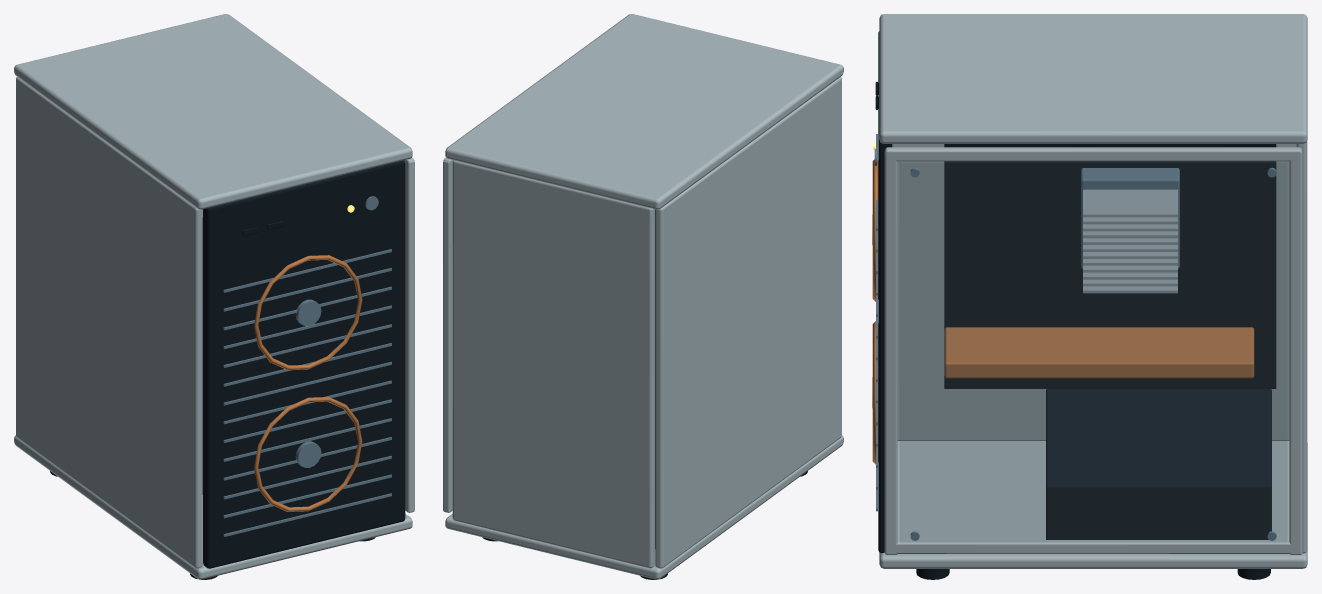
Rendered from tower.glb.
The picture shows the model from 3 angles, left to right: view 1: azimuth 30°, elevation 25°; view 2: azimuth 150°, elevation 25°; view 3: azimuth 270°, elevation 25°; orthographic projection. The views are drawn at different scales.
Parts seen in each view (by area): view 1: case, dark, hardware, copper; view 2: case; view 3: window, case, dark, copper, aluminum, hardware.
Boxes of the visible parts, bbox=[...] form: case: bbox=[14, 14, 414, 579]; dark: bbox=[50, 160, 405, 579]; hardware: bbox=[223, 196, 391, 536]; copper: bbox=[254, 255, 362, 511]; case: bbox=[443, 14, 843, 579]; window: bbox=[900, 162, 1286, 541]; case: bbox=[879, 14, 1307, 568]; dark: bbox=[875, 31, 1276, 579]; copper: bbox=[872, 159, 1254, 464]; aluminum: bbox=[1083, 189, 1177, 293]; hardware: bbox=[872, 134, 1276, 540].
Size of the model in its own units: 0.246 by 0.423 by 0.366.
